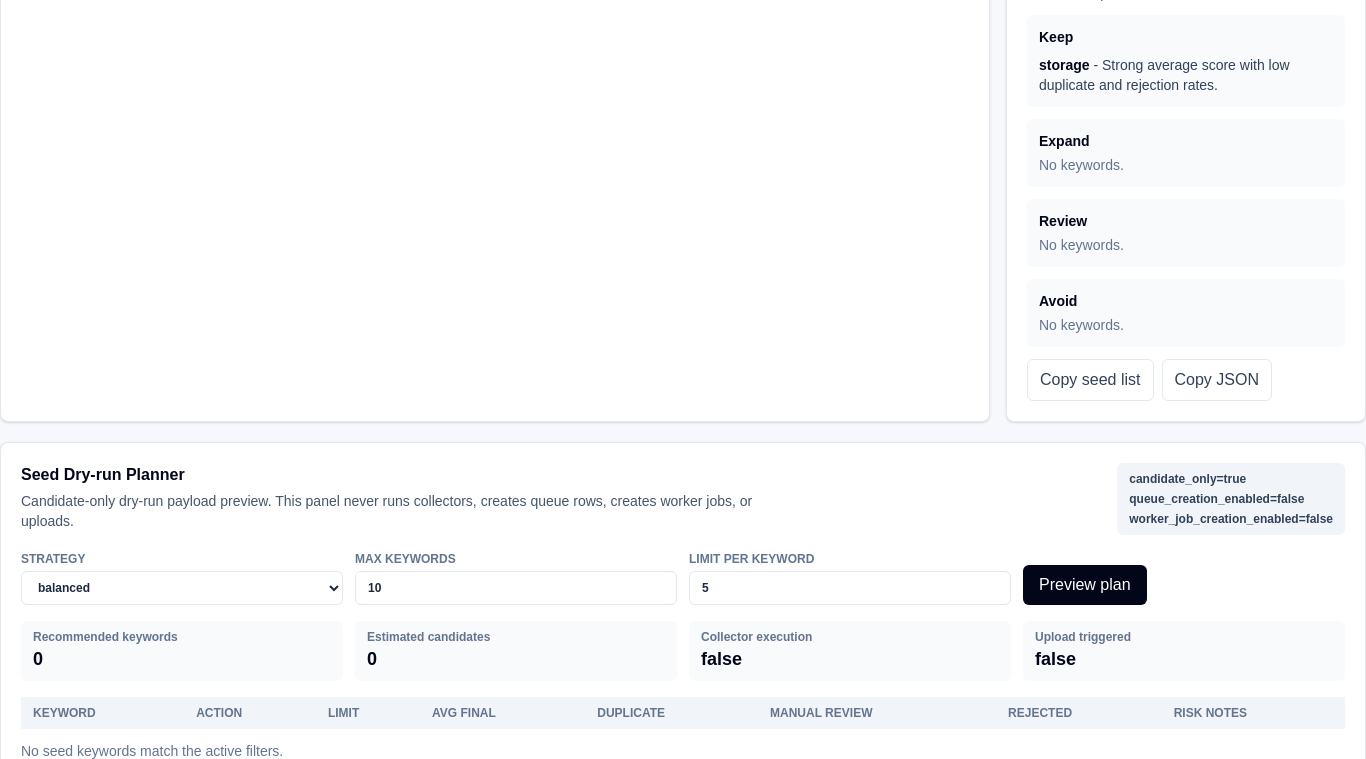
Test: collector seed strategy panel › renders candidate-only seed strategy copy controls without collector or promote actions
(page scrolled)
Expected: the heading "Keep" is shown, [1039, 29, 1073, 45]
Expected: the button "Copy JSON" is shown, [1162, 359, 1272, 401]
Click the button "Copy seed list": [1090, 380] box [1027, 359, 1154, 401]
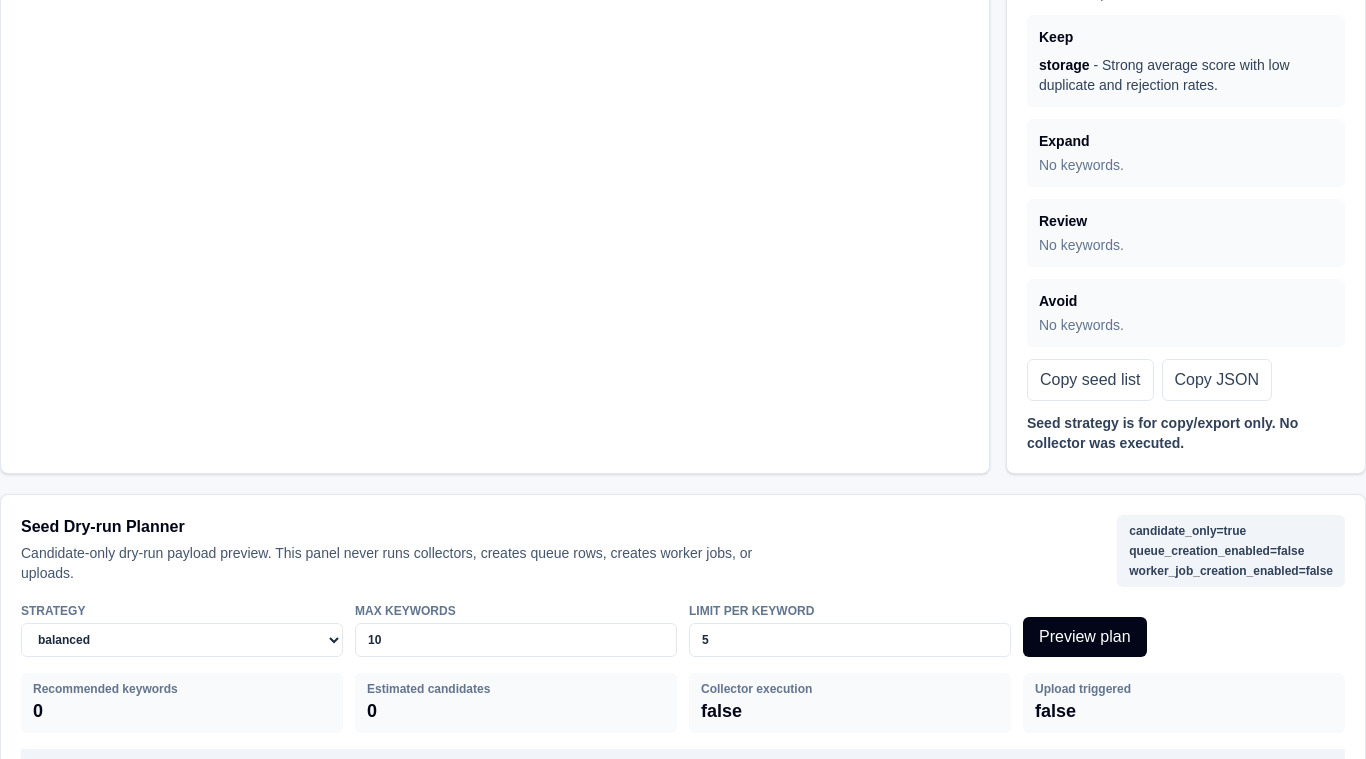
Now the text "Seed strategy is for copy/export only. No collector was executed." is shown, box [1027, 413, 1345, 453]
